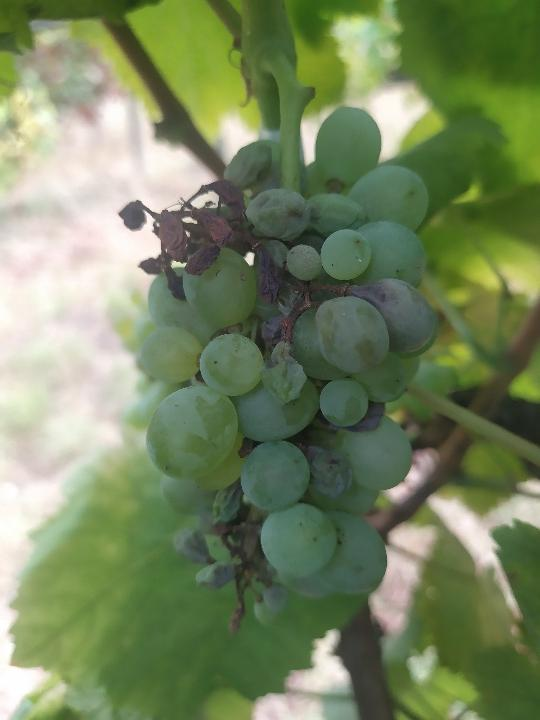grape: (115, 103, 443, 637)
